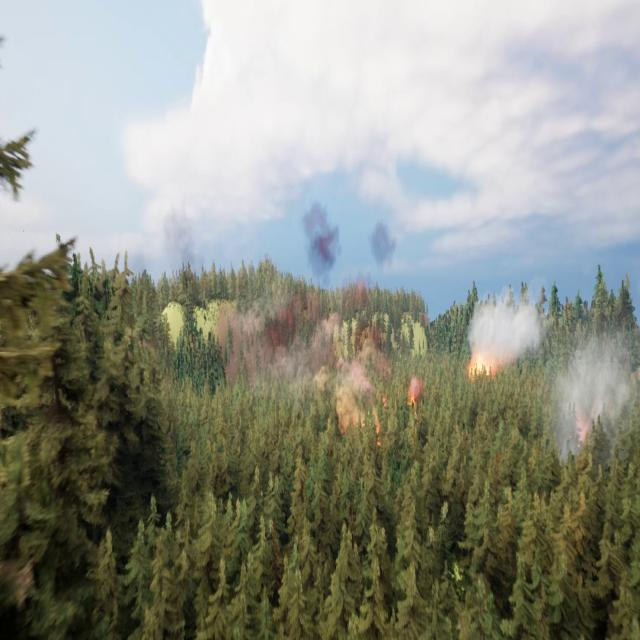fire: (403, 375, 427, 409), (471, 349, 494, 371)
smoke: (162, 197, 395, 423), (542, 318, 631, 467), (466, 294, 539, 375)
